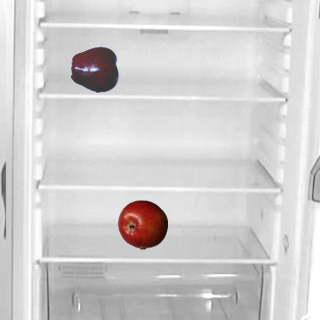Apple Braeburn: (117, 199, 167, 249)
Apple Red Delicious: (70, 44, 120, 94)
